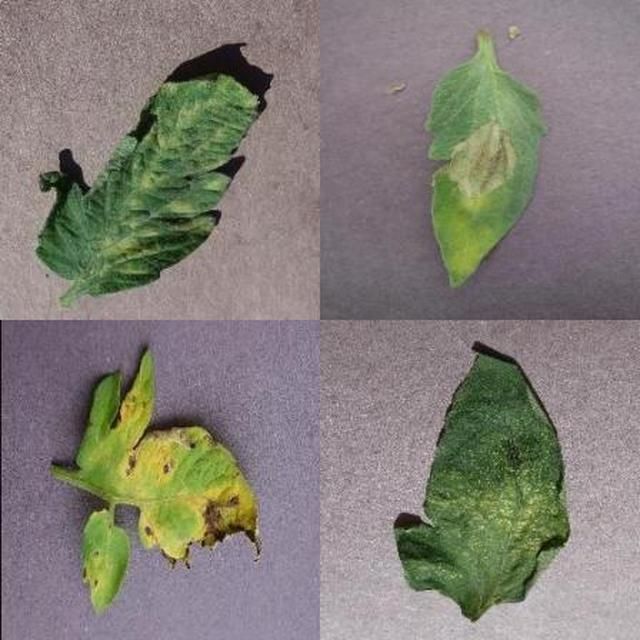Leaf Mold: (67, 157, 640, 640)
